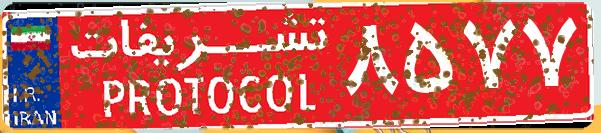5: (400, 20, 460, 115)
7: (460, 20, 520, 115), (520, 20, 580, 115)
8: (340, 20, 400, 115)
تشریفات: (60, 8, 340, 125)
